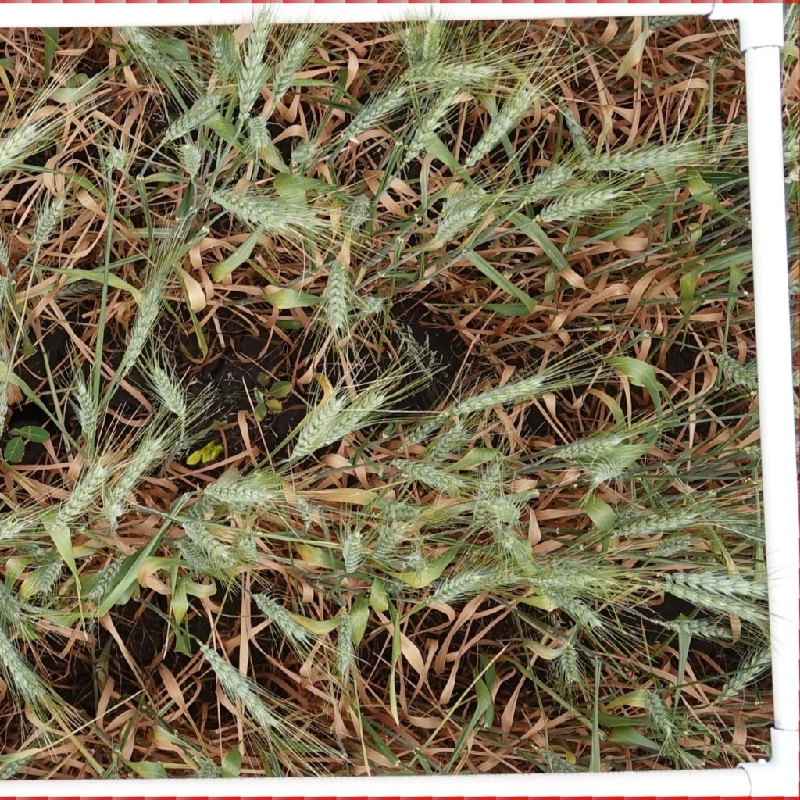spikelet: (194, 638, 283, 733), (460, 77, 549, 168), (204, 180, 321, 239), (578, 132, 710, 180), (100, 430, 166, 525), (394, 80, 463, 169), (442, 366, 553, 419), (114, 274, 171, 374), (306, 387, 391, 453), (229, 4, 277, 120), (334, 78, 416, 145), (283, 384, 351, 463), (651, 564, 761, 611), (528, 178, 629, 228), (48, 453, 113, 529), (1, 113, 53, 202), (522, 551, 624, 596), (713, 637, 783, 702), (111, 20, 188, 79), (393, 49, 501, 91), (194, 464, 286, 513), (170, 510, 240, 572), (1, 619, 52, 704), (545, 423, 644, 466), (156, 86, 228, 144), (247, 585, 313, 647), (601, 501, 705, 539), (314, 251, 359, 336), (266, 30, 318, 103), (140, 354, 197, 420), (538, 583, 610, 633), (386, 453, 470, 495), (63, 367, 109, 441), (24, 188, 74, 254), (425, 561, 493, 609), (467, 455, 512, 526), (515, 155, 577, 206), (394, 11, 448, 69), (325, 602, 365, 679), (82, 546, 135, 604), (427, 200, 491, 247), (657, 609, 738, 645), (431, 177, 493, 223), (636, 682, 685, 740), (419, 417, 477, 464), (576, 451, 644, 489), (399, 405, 455, 449), (707, 345, 757, 394), (279, 478, 325, 529), (474, 487, 528, 530), (367, 515, 415, 562), (201, 26, 238, 84), (529, 740, 584, 779), (23, 550, 67, 598), (336, 188, 378, 237), (552, 630, 588, 687), (371, 493, 429, 527), (333, 522, 368, 576), (644, 529, 699, 560), (172, 134, 208, 179), (241, 109, 276, 155), (1, 571, 29, 626), (285, 133, 324, 172), (229, 526, 264, 567), (1, 507, 33, 550), (353, 286, 392, 320), (98, 141, 135, 175), (399, 543, 433, 575), (1, 375, 13, 456)
weed: (253, 372, 292, 422), (184, 435, 227, 475), (4, 426, 50, 463)
